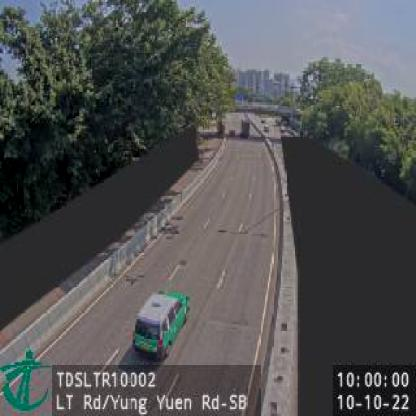Car: (132, 290, 192, 361)
